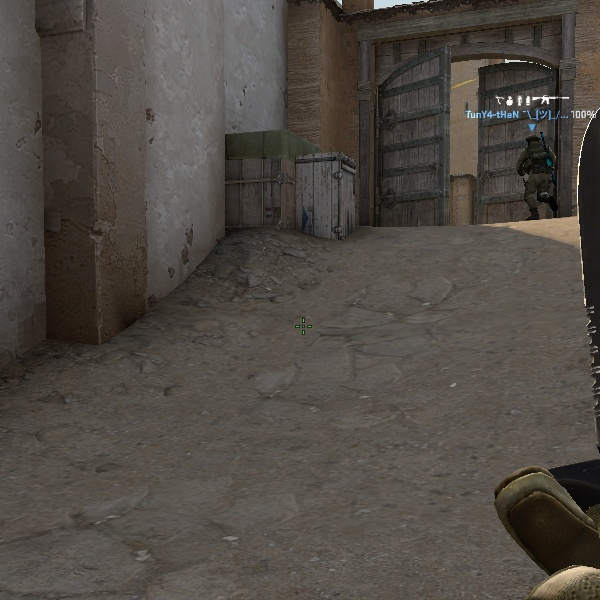ct_body: (517, 134, 558, 220)
ct_head: (525, 134, 540, 146)
